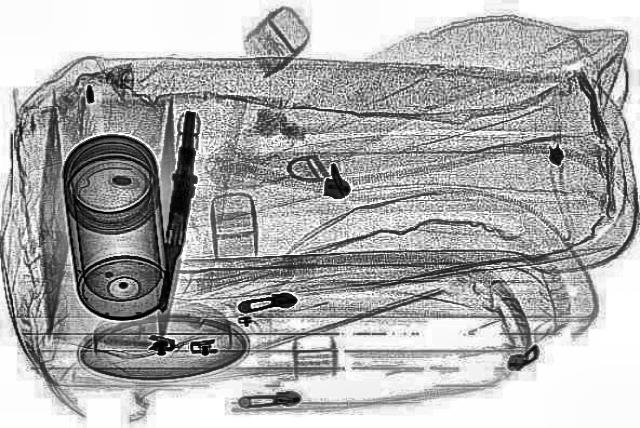Gun: (148, 110, 206, 310)
